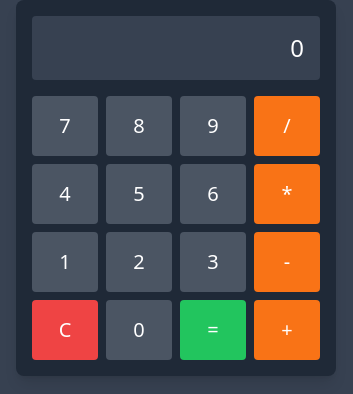
it: Calculator › can clear display
//  Click 1
Click the button "1". click: (65, 262)
box: [32,232,98,292]
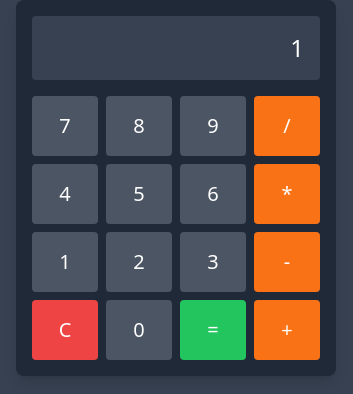
//  Click C
Click the button "C". click: (65, 330)
box: [32,300,98,360]
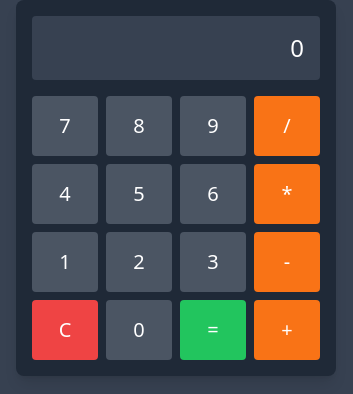
Check: the text with class "display" reads "0", box [290,31,304,64]
